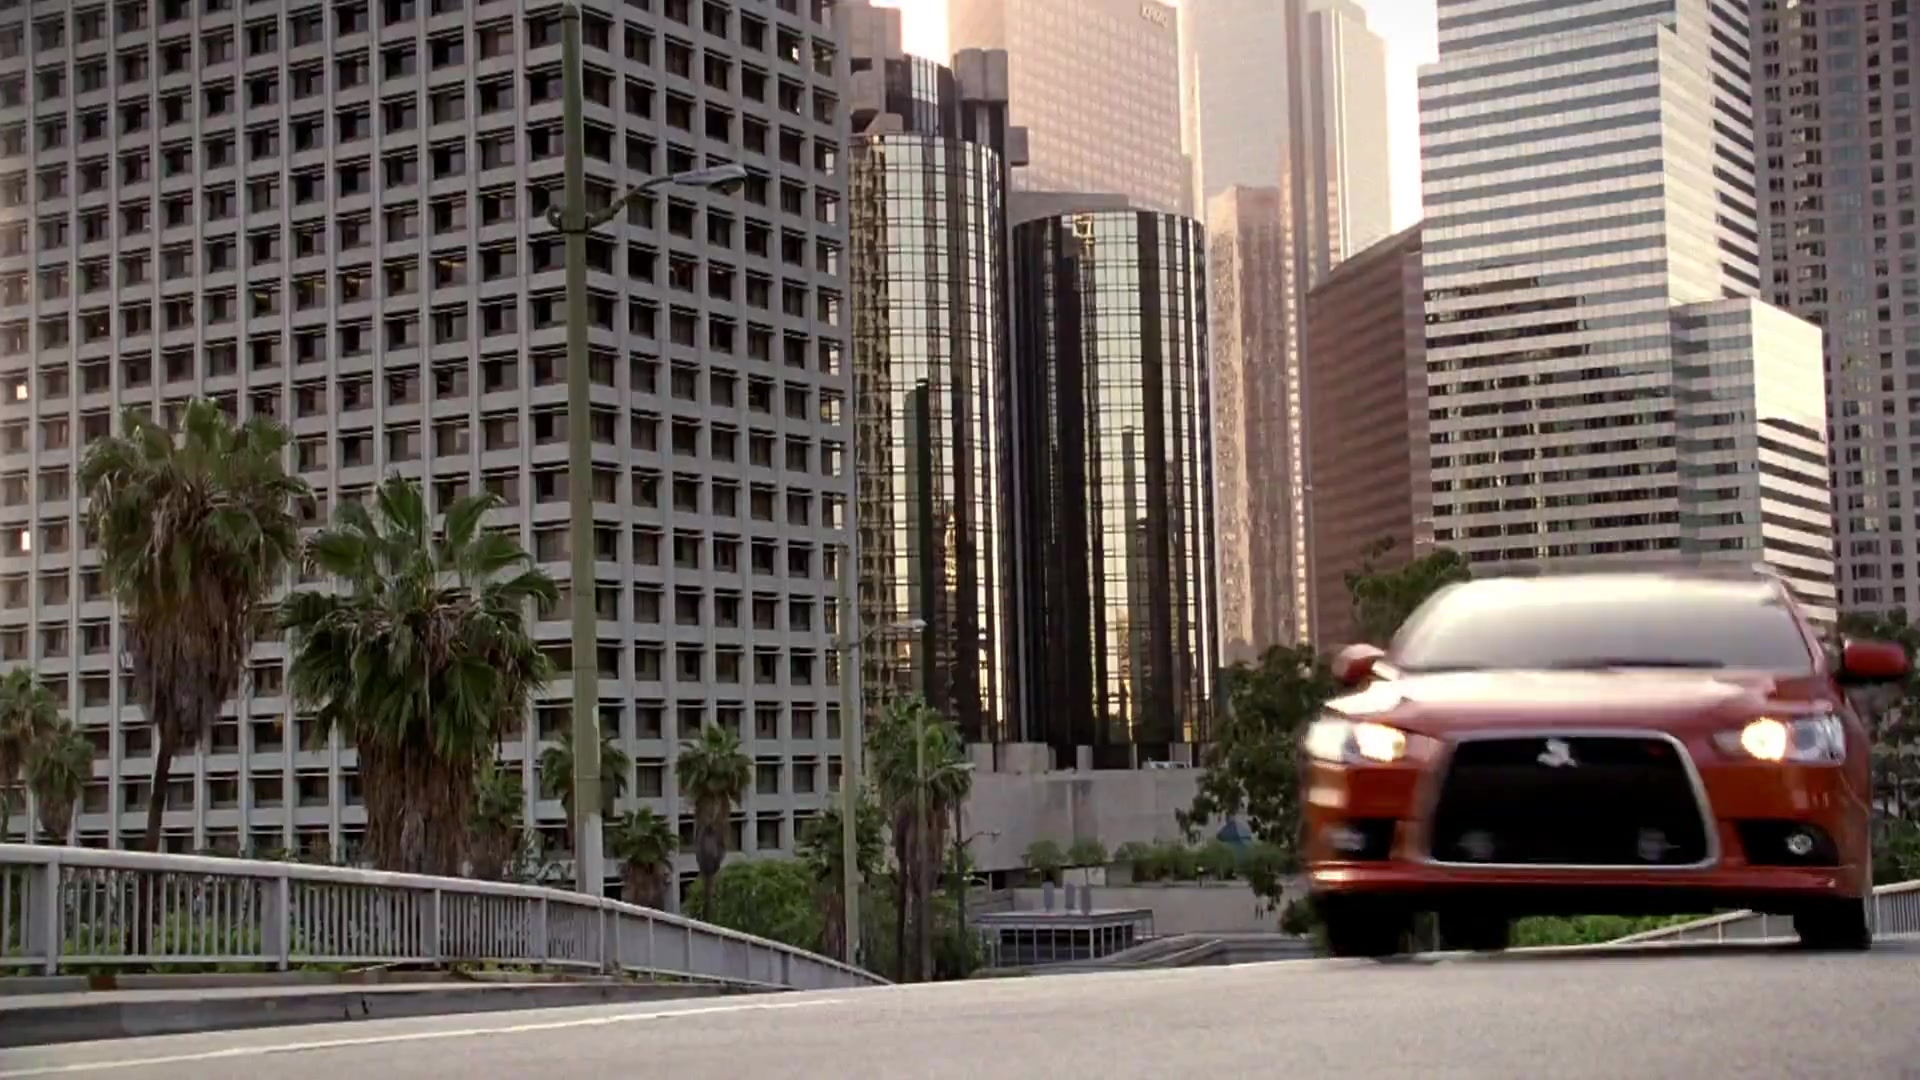car: (1294, 556, 1912, 955)
